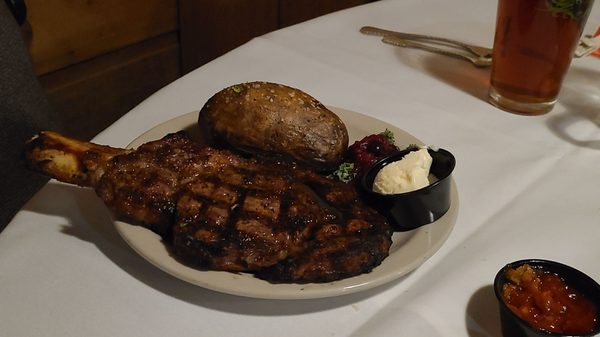sandwich: (359, 24, 493, 68)
sushi: (358, 144, 456, 232), (493, 259, 600, 335)
